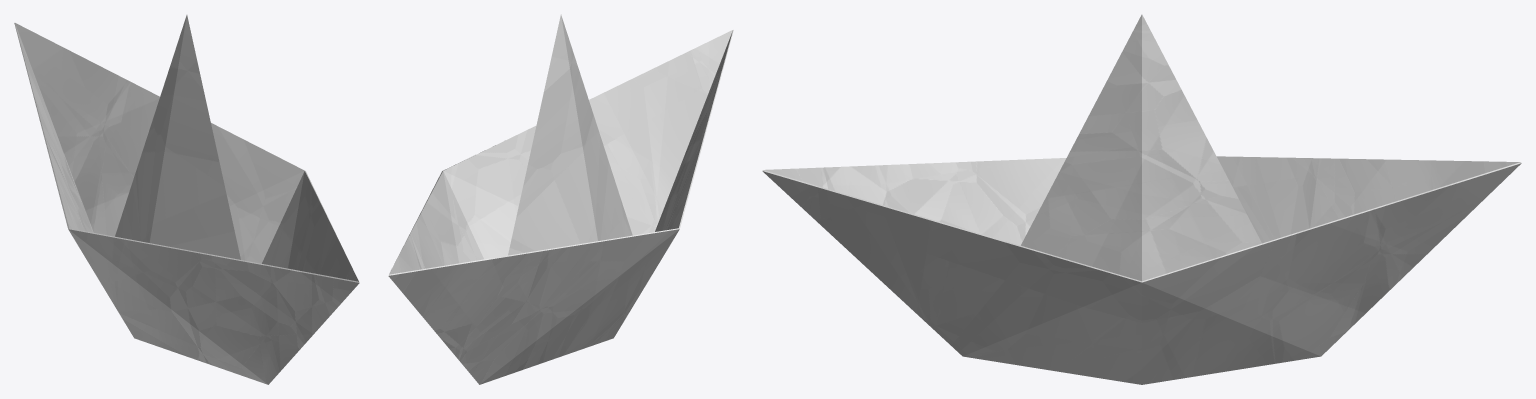
File: paper boat NEW.fbx
3 renders of one model, left to right at view 1: azimuth 30°, elevation 25°; view 2: azimuth 150°, elevation 25°; view 3: azimuth 270°, elevation 25°, orthographic. The views are drawn at different scales.
Parts seen in each view (by area): view 1: Paper Boat; view 2: Paper Boat; view 3: Paper Boat.
Part boxes in pixels (left/top/right/bottom): Paper Boat: left=14, top=15, right=359, bottom=384; Paper Boat: left=388, top=14, right=733, bottom=384; Paper Boat: left=762, top=14, right=1521, bottom=384.
Size of the model in its own units: 92.45 by 116 by 233.
